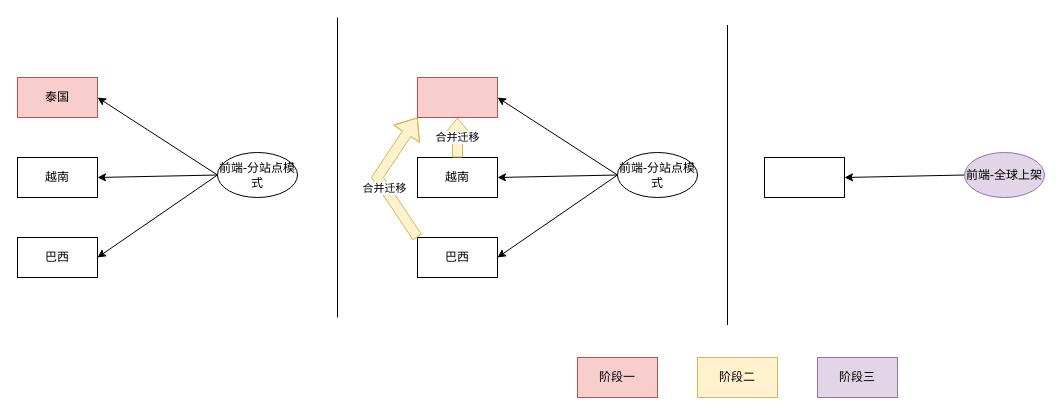
Image size: 1062x415. Some labels were removed from this diagram. Here are the shapes that lost their labels. From the top down, the centre of each, then its label:
point 457,97: 泰国（全球化改造）
point 804,177: 泰国（全球站点）
